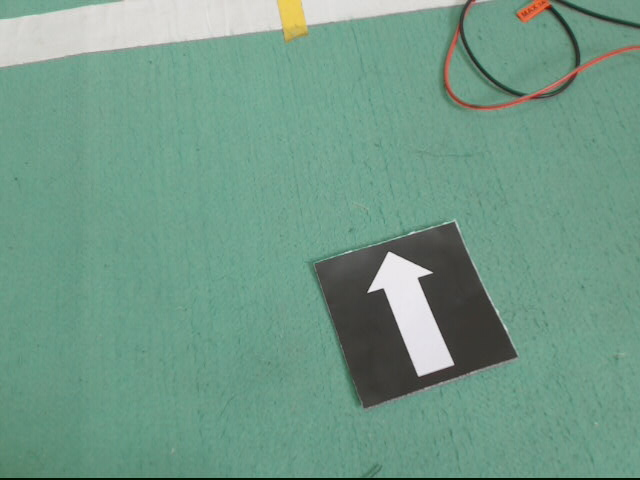straight: (313, 218, 525, 408)
